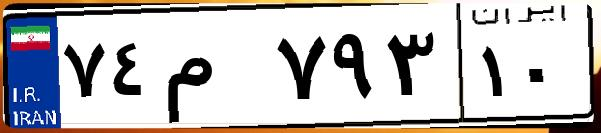0: (525, 38, 570, 115)
1: (475, 38, 525, 113)
3: (385, 28, 445, 110)
4: (110, 28, 158, 98)
7: (270, 28, 330, 110), (57, 26, 110, 100)
9: (330, 28, 385, 110)
م: (158, 20, 270, 120)
